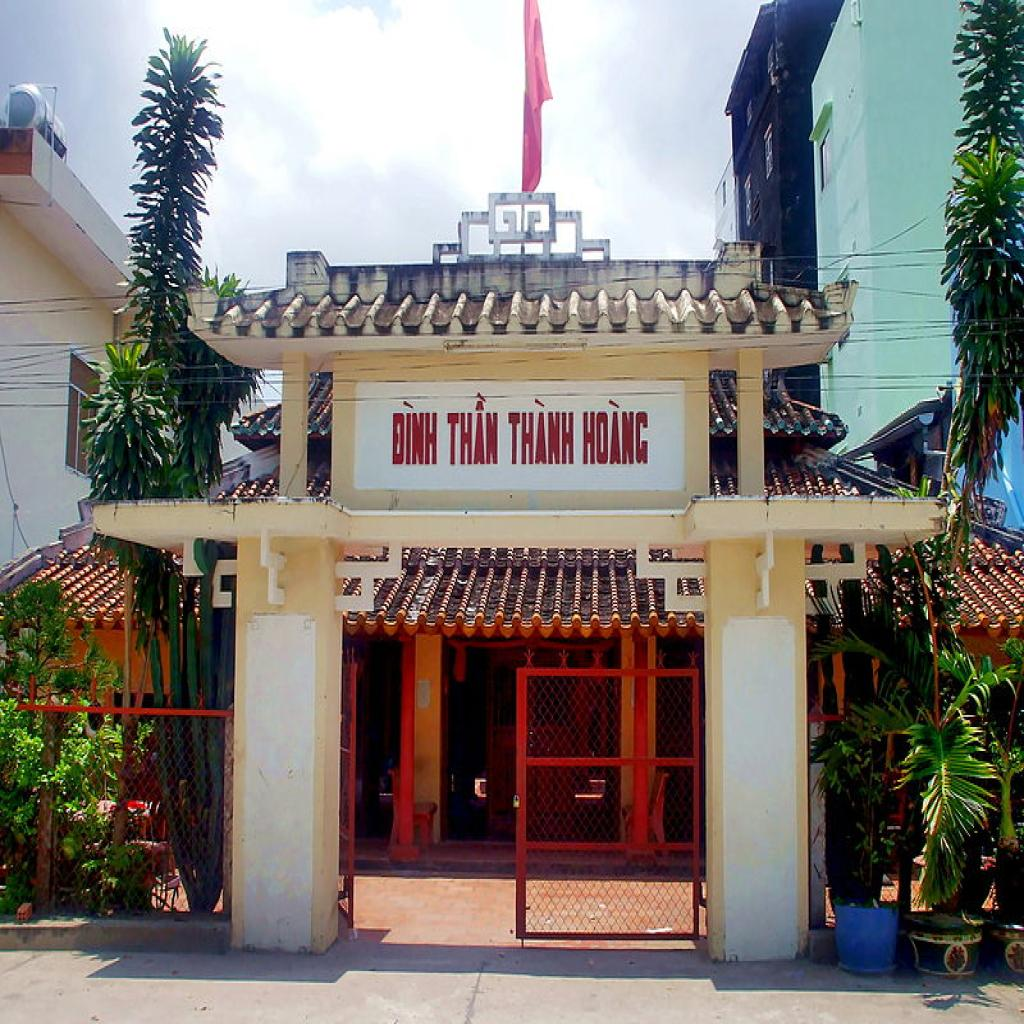text: (580, 398, 650, 468), (507, 398, 576, 468), (446, 396, 500, 469), (389, 399, 440, 468)
